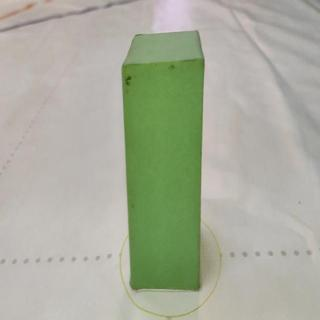greenbox: (122, 31, 205, 292)
